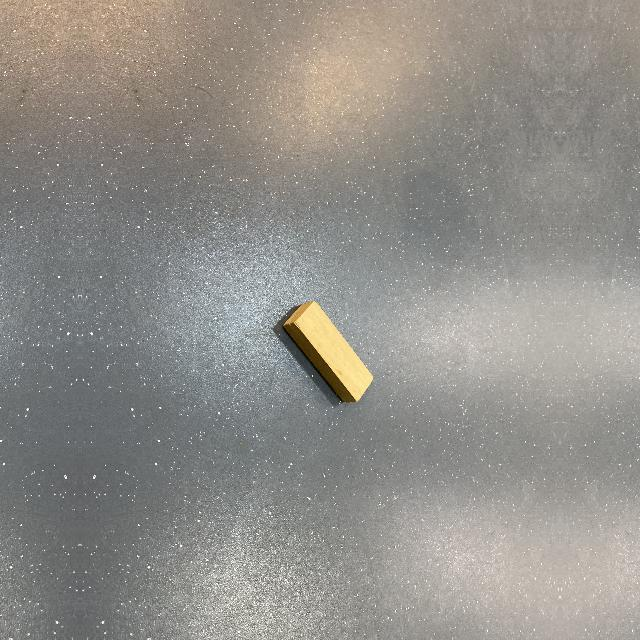jenga: (283, 301, 373, 403)
